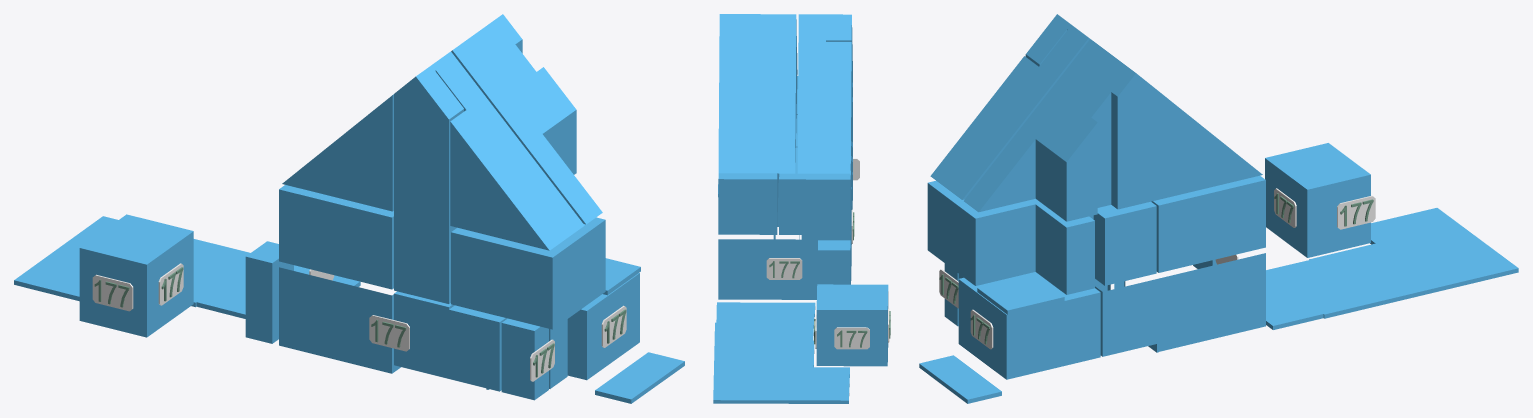
3 views of the same model, side by side, from view 1: azimuth 30°, elevation 25°; view 2: azimuth 150°, elevation 25°; view 3: azimuth 270°, elevation 25° (orthographic). The views are drawn at different scales.
Visible parts, largest first — view 1: g_7, g_11, g_6, g_5, g_9, g_2, g_0, g_8, g_16, g_14, g_1, g_3 (+5 smaller); view 2: g_6, g_16, g_7, g_0, g_5, g_9, g_10, g_3, g_8, g_37, g_21, g_2; view 3: g_6, g_16, g_11, g_0, g_1, g_5, g_10, g_7, g_12, g_17, g_15, g_8 (+1 smaller).
Boxes of the visible parts, <box> form: g_7: <box>282,51,584,250</box>; g_11: <box>451,217,605,329</box>; g_6: <box>451,14,602,224</box>; g_5: <box>79,214,193,337</box>; g_9: <box>279,185,393,289</box>; g_2: <box>394,291,567,391</box>; g_0: <box>279,267,400,373</box>; g_8: <box>394,64,463,225</box>; g_16: <box>14,216,360,318</box>; g_14: <box>394,212,456,303</box>; g_1: <box>567,273,639,380</box>; g_3: <box>245,241,293,343</box>; g_6: <box>718,14,797,173</box>; g_16: <box>713,302,849,403</box>; g_7: <box>797,14,852,173</box>; g_0: <box>718,206,851,299</box>; g_5: <box>816,284,888,366</box>; g_9: <box>779,141,851,235</box>; g_10: <box>718,173,778,234</box>; g_3: <box>818,240,850,284</box>; g_8: <box>826,14,852,126</box>; g_37: <box>766,258,802,279</box>; g_21: <box>834,327,869,349</box>; g_2: <box>801,157,852,244</box>; g_6: <box>964,39,1262,221</box>; g_16: <box>1266,208,1518,329</box>; g_11: <box>927,181,1094,294</box>; g_0: <box>1095,253,1265,356</box>; g_1: <box>958,272,1100,379</box>; g_5: <box>1265,143,1370,257</box>; g_10: <box>1151,175,1265,272</box>; g_7: <box>930,25,1089,199</box>; g_12: <box>1093,201,1156,285</box>; g_17: <box>977,274,1064,314</box>; g_15: <box>919,355,1001,403</box>; g_8: <box>1025,14,1072,66</box>.
Bounding box in the file's own units: 14.62 × 10.25 × 19.28.
